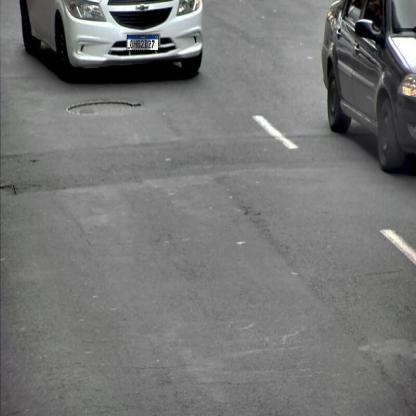PlacaM: (127, 34, 158, 50)
